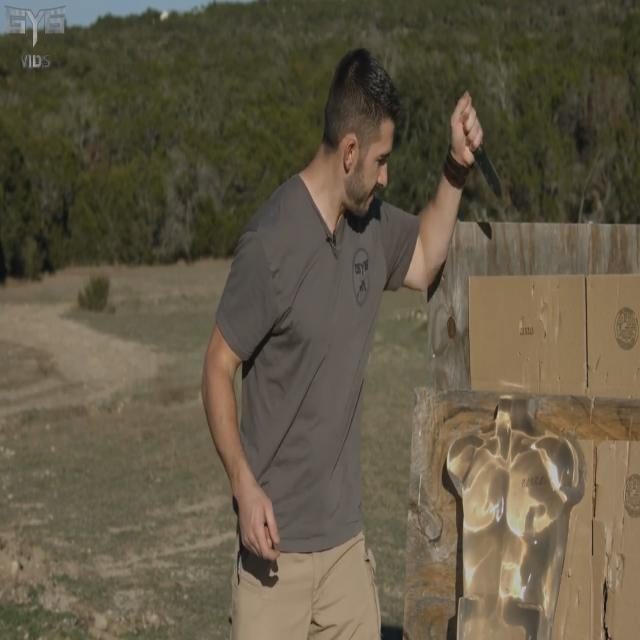knife: (479, 146, 507, 208)
